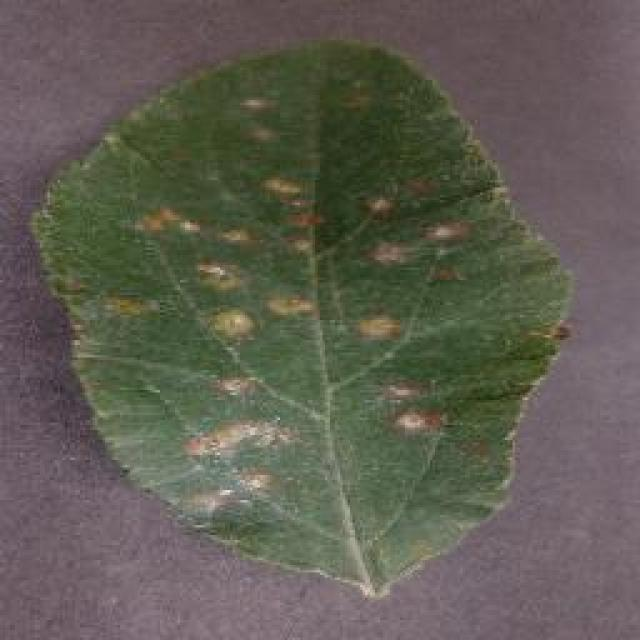apple rust disease: (27, 35, 575, 597)
